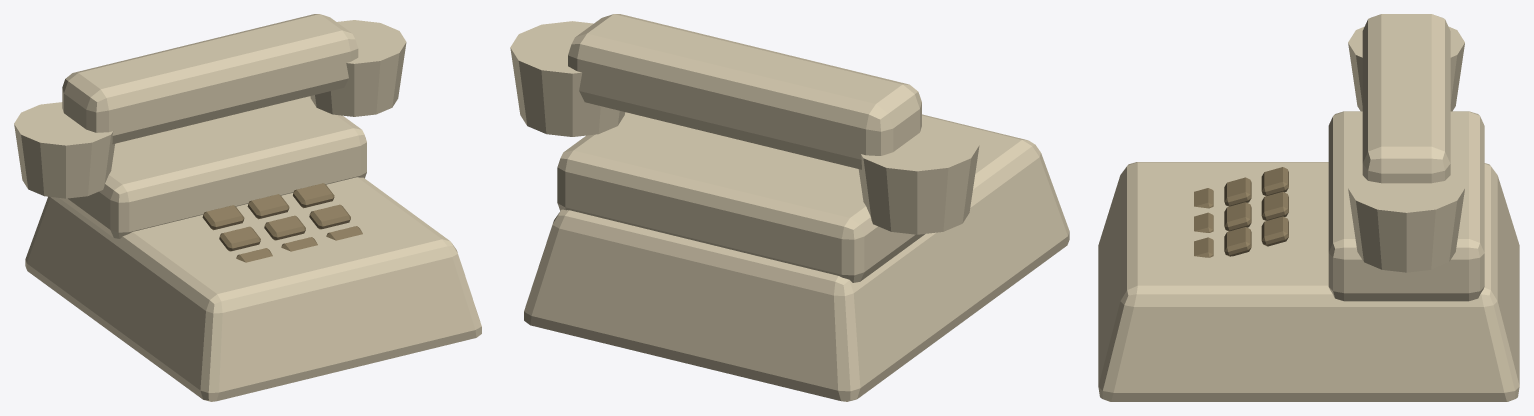
Rendered from desk_phone_pushbutton.glb.
The picture shows the model from 3 angles, left to right: view 1: azimuth 30°, elevation 25°; view 2: azimuth 150°, elevation 25°; view 3: azimuth 270°, elevation 25°; orthographic projection. The views are drawn at different scales.
Parts seen in each view (by area): view 1: DeskPhone, Handset; view 2: DeskPhone, Handset; view 3: DeskPhone, Handset.
Boxes of the visible parts, x1,y1,x2,y2 form: DeskPhone: [25, 96, 481, 401]; Handset: [14, 14, 406, 198]; DeskPhone: [524, 112, 1069, 401]; Handset: [510, 14, 979, 234]; DeskPhone: [1098, 111, 1519, 401]; Handset: [1348, 14, 1464, 272].
Bounding box in the file's own units: 0.252 × 0.1412 × 0.2159.
